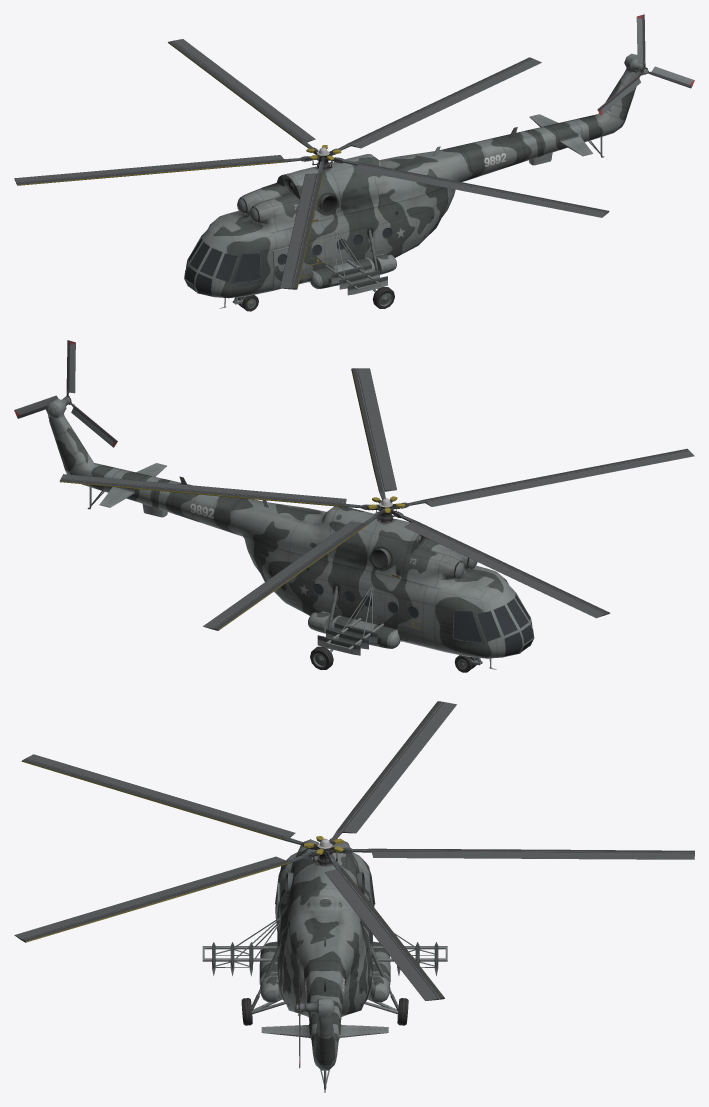
The model's file is mi_17_triangulated.fbx.
3 renders of one model, top to bottom at view 1: azimuth 30°, elevation 25°; view 2: azimuth 150°, elevation 25°; view 3: azimuth 270°, elevation 25°, orthographic. The views are drawn at different scales.
Visible parts, largest first — view 1: mi_17, mi_17_rotor_Main, mi_17_weaponSupport, mi_17_rotor_small; view 2: mi_17, mi_17_rotor_Main, mi_17_weaponSupport, mi_17_rotor_small; view 3: mi_17, mi_17_rotor_Main, mi_17_weaponSupport.
Part boxes in pixels (x1,y1,x2,y2): mi_17: (184, 53, 648, 308); mi_17_rotor_Main: (14, 39, 609, 289); mi_17_weaponSupport: (325, 231, 387, 295); mi_17_rotor_small: (597, 14, 694, 115); mi_17: (45, 398, 534, 669); mi_17_rotor_Main: (59, 368, 694, 630); mi_17_weaponSupport: (317, 587, 384, 655); mi_17_rotor_small: (14, 340, 117, 447); mi_17: (251, 839, 398, 1092); mi_17_rotor_Main: (14, 701, 694, 1000); mi_17_weaponSupport: (202, 916, 447, 976).
Size of the model in its own units: 725 by 234 by 585.
Materials: 1 (1 with a texture image).
